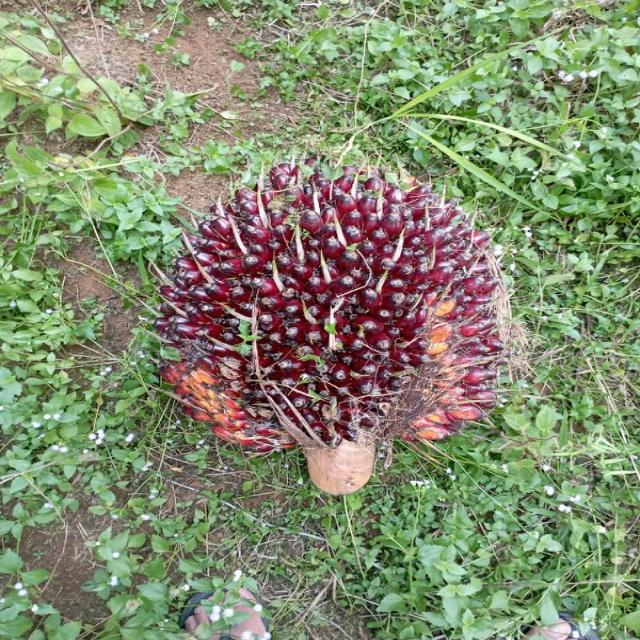fraksi 1: (115, 77, 576, 527)
